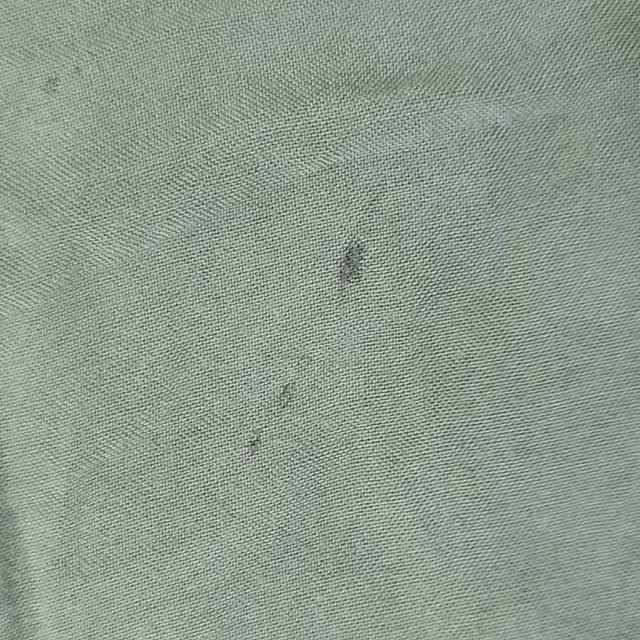stain: (337, 239, 369, 288), (273, 380, 296, 416), (247, 426, 265, 454), (45, 77, 60, 94), (335, 290, 345, 301)
